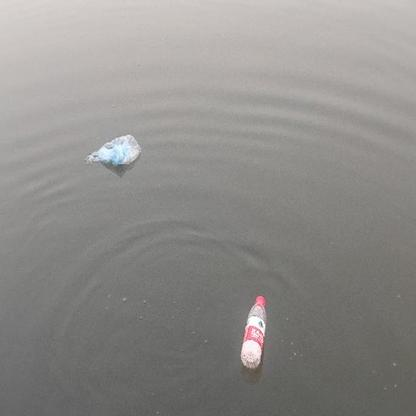plastic bag: (83, 135, 142, 166)
plastic bottle: (241, 295, 269, 370)
